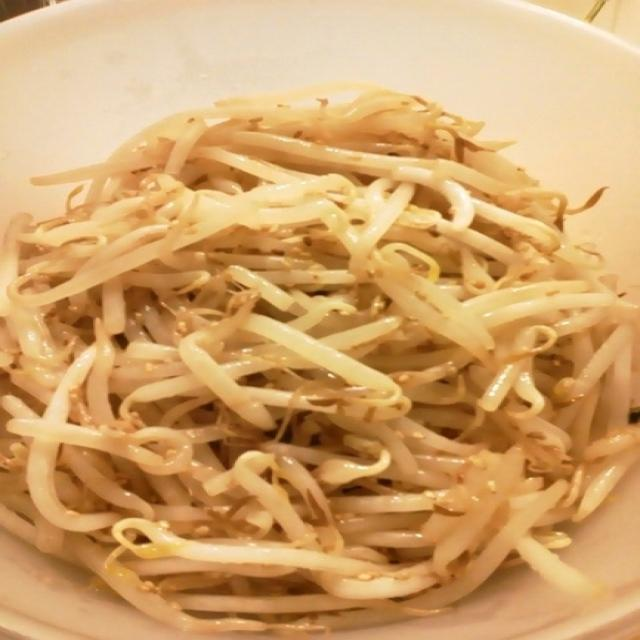熟制海鲜: (0, 40, 635, 605)
